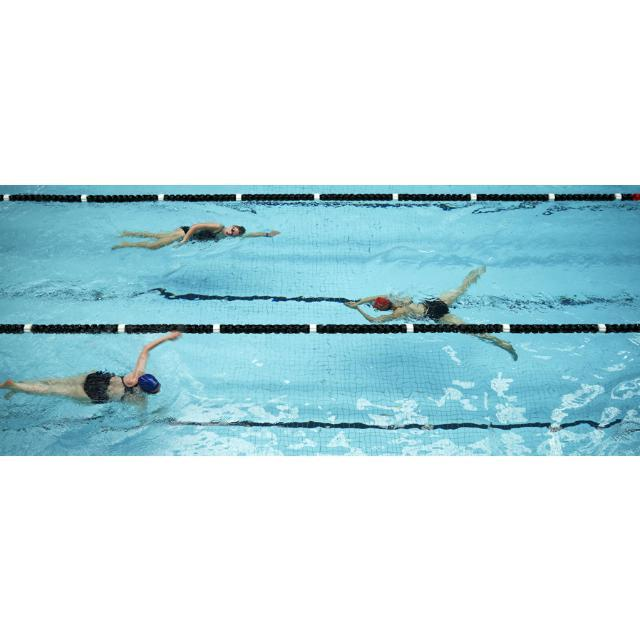human: (349, 266, 521, 365), (1, 330, 184, 423), (112, 222, 280, 249)
